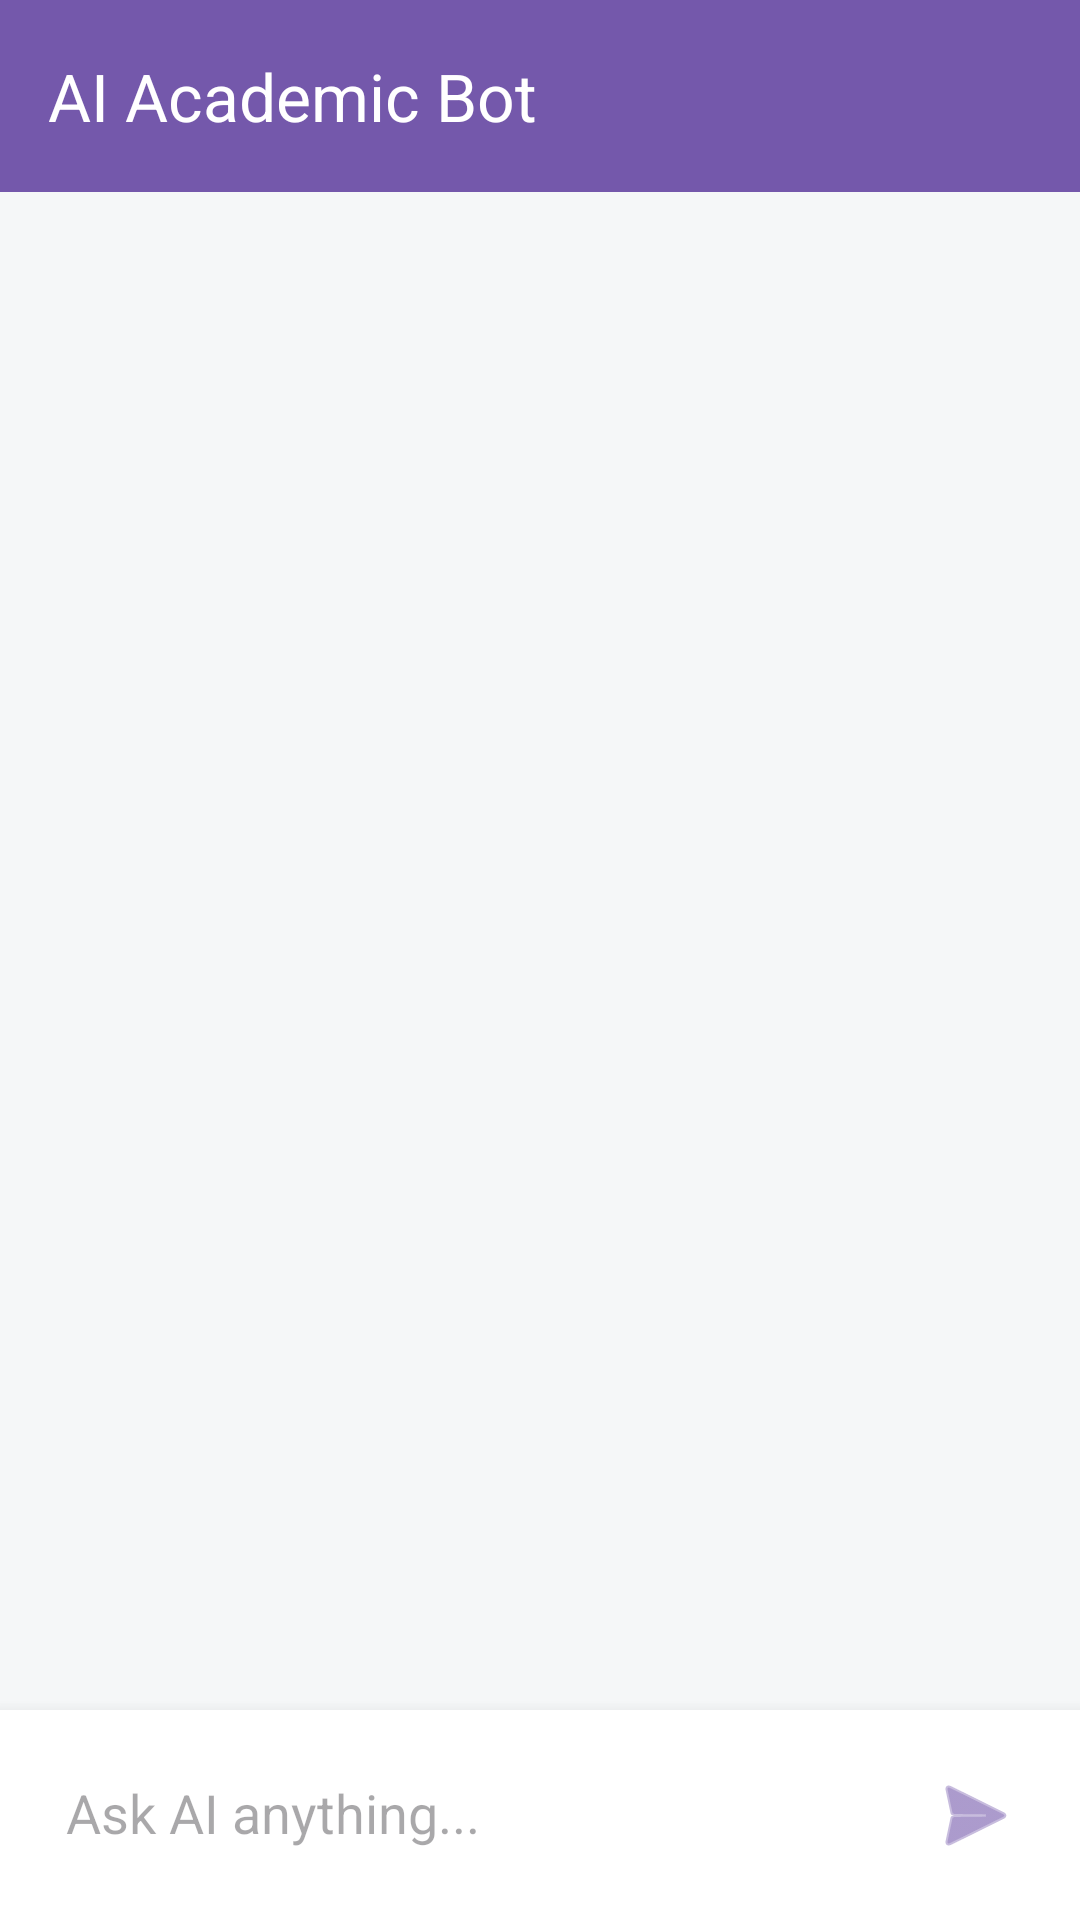

Named icons in this screenshot (1080 × 1920) and their centers, point (x, y):
send: point (975, 1815)
